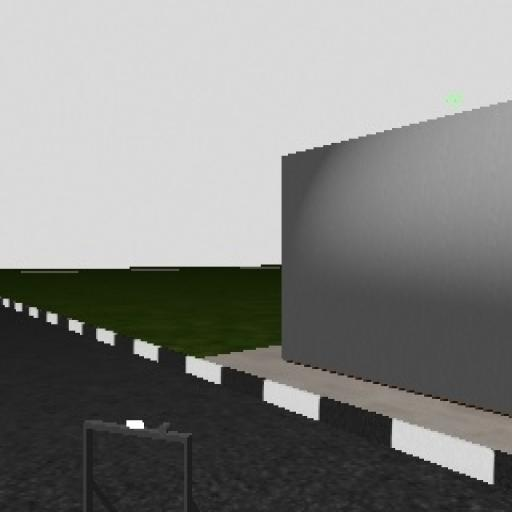huskya200: (60, 401, 212, 512)
